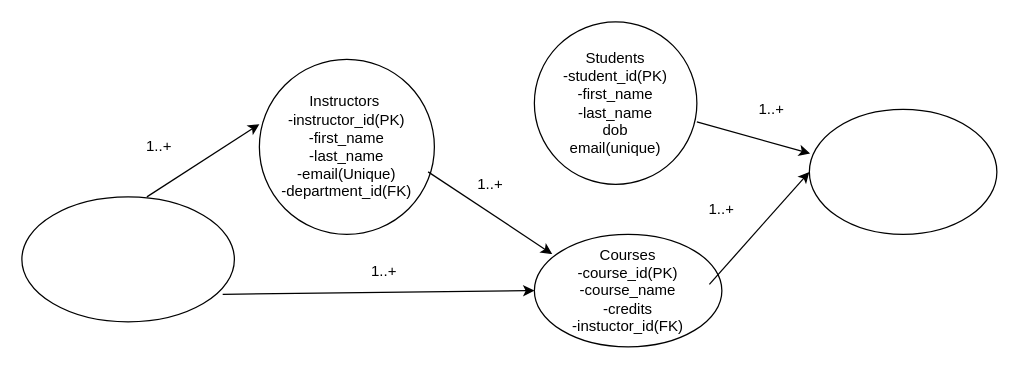
Some shapes in this 1019 by 369 pixel diagram are drawn without their labels. The box of each missing label's shape, as (x1, y1, x2, y2) in pixels:
Department -department_id(PK) -department_name(Unique): (21, 196, 234, 322)
Enrollments -enrollment_id(PK) -student_id (FK) -course_id(FK) -grade: (808, 108, 997, 234)
